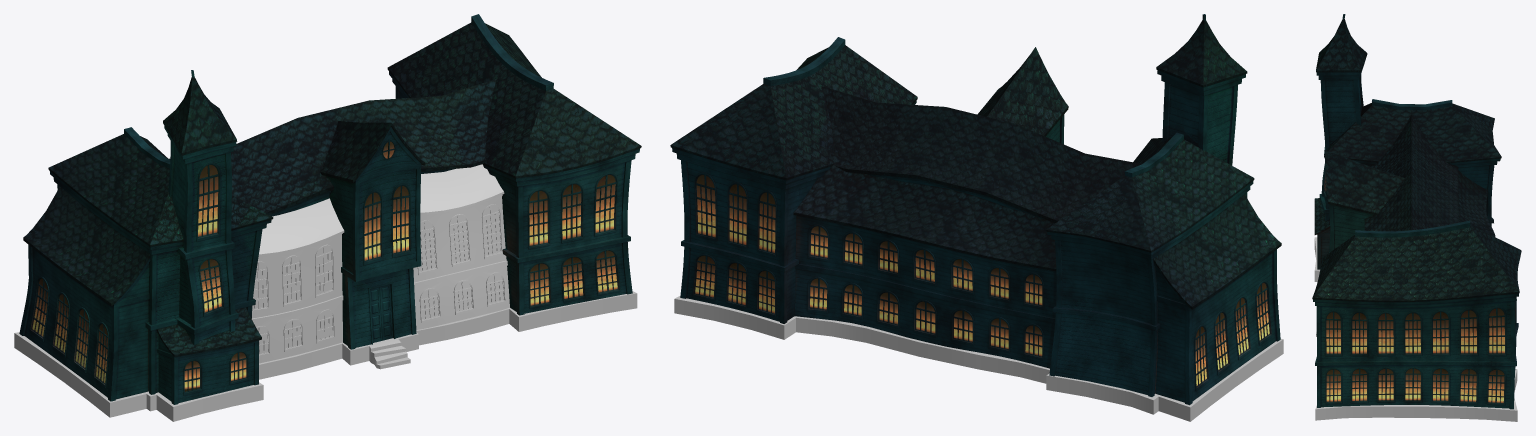
File: Mansion (Halloween).fbx
3 renders of one model, left to right at view 1: azimuth 30°, elevation 25°; view 2: azimuth 150°, elevation 25°; view 3: azimuth 270°, elevation 25°, orthographic. The views are drawn at different scales.
Visible parts, largest first — view 1: Church, Hall, Tower, Entrance, Center, Entrance R, Entrance L, Masion Base; view 2: Church, Back, Hall, Center, Masion Base, Tower, Entrance; view 3: Hall, Church, Center, Tower, Entrance, Masion Base, Back.
Part boxes in pixels (x1,y1,x2,y2): Church: [19, 127, 273, 401]; Hall: [387, 14, 641, 315]; Tower: [156, 70, 261, 404]; Entrance: [320, 121, 425, 349]; Center: [169, 79, 496, 216]; Entrance R: [413, 164, 509, 329]; Entrance L: [251, 198, 344, 363]; Masion Base: [14, 291, 637, 421]; Church: [1045, 132, 1281, 405]; Back: [793, 154, 1056, 368]; Hall: [670, 37, 917, 323]; Center: [821, 86, 1141, 223]; Masion Base: [674, 296, 1283, 421]; Tower: [1156, 14, 1247, 165]; Entrance: [977, 47, 1068, 144]; Hall: [1312, 220, 1521, 409]; Church: [1324, 99, 1501, 226]; Center: [1364, 115, 1458, 231]; Tower: [1314, 14, 1367, 269]; Entrance: [1324, 150, 1404, 252]; Masion Base: [1314, 237, 1517, 421]; Back: [1458, 170, 1495, 236].
Bounding box in the file's own units: 1805 × 1100 × 838.
